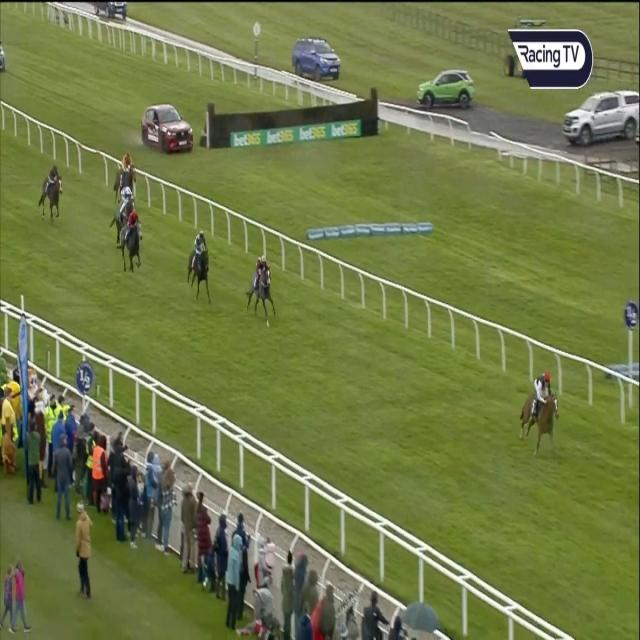horses-racing: (518, 364, 562, 456), (247, 251, 278, 320), (39, 162, 70, 223), (188, 228, 212, 304), (119, 211, 144, 275), (114, 182, 136, 241), (114, 150, 138, 194)
